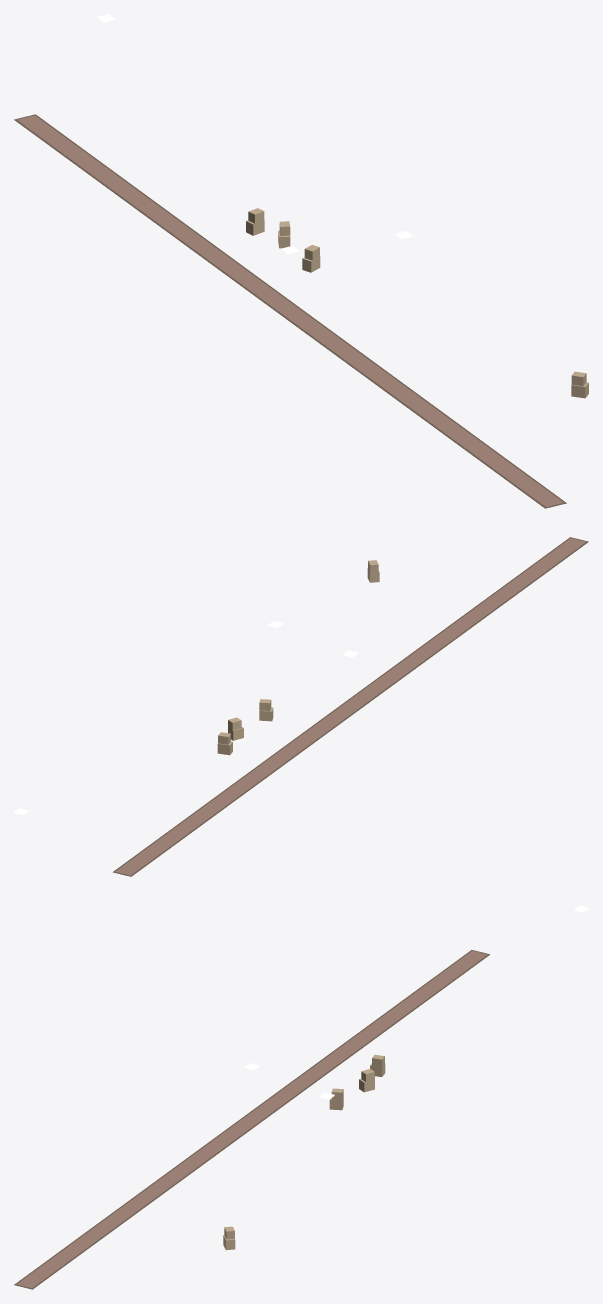
File: fine-s0.glb
3 renders of one model, top to bottom at view 1: azimuth 30°, elevation 25°; view 2: azimuth 150°, elevation 25°; view 3: azimuth 330°, elevation 25°, orthographic. The views are drawn at different scales.
Parts seen in each view (by area): view 1: soft-s0; view 2: soft-s0; view 3: soft-s0.
Boxes of the visible parts, x1,y1,x2,y2 form: soft-s0: (14,114,566,508); soft-s0: (113,537,588,876); soft-s0: (14,950,489,1289).
Size of the model in its own units: 6.94 by 2.74 by 44.11.
